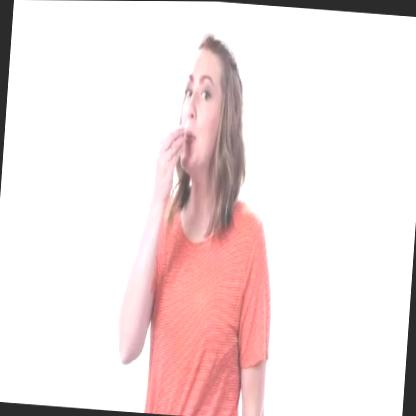Food: (150, 22, 255, 221)
